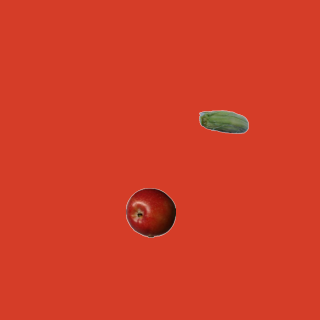Apple Braeburn: (125, 187, 175, 237)
Corn Husk: (198, 98, 248, 148)
